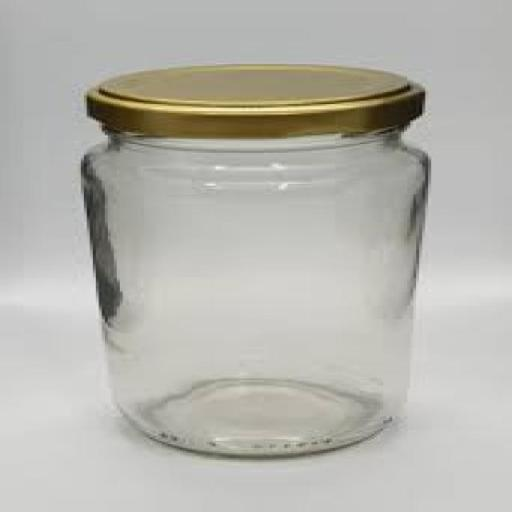glass: (45, 102, 463, 470)
